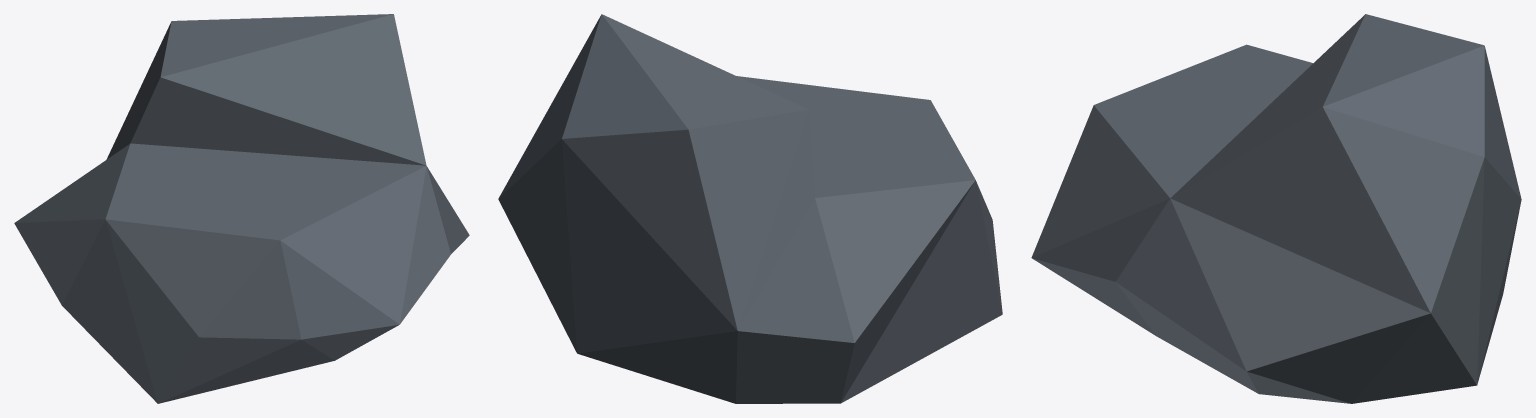
File: Boulder-B13.fbx
The picture shows the model from 3 angles, left to right: view 1: azimuth 30°, elevation 25°; view 2: azimuth 150°, elevation 25°; view 3: azimuth 270°, elevation 25°; orthographic projection. The views are drawn at different scales.
Parts seen in each view (by area): view 1: Boulder-B13; view 2: Boulder-B13; view 3: Boulder-B13.
Boxes of the visible parts, bbox=[...] form: Boulder-B13: bbox=[14, 14, 469, 403]; Boulder-B13: bbox=[498, 14, 1002, 403]; Boulder-B13: bbox=[1031, 14, 1521, 403].
Bounding box in the file's own units: 120 × 80.52 × 118.
